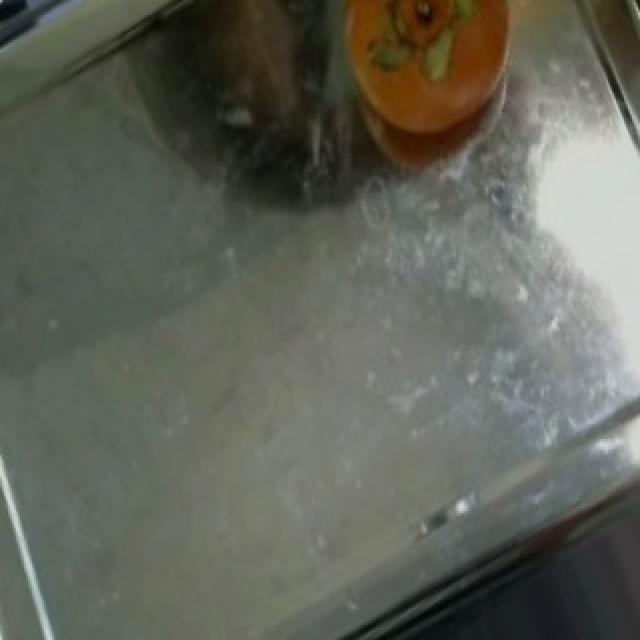Fruit: (322, 0, 538, 164)
